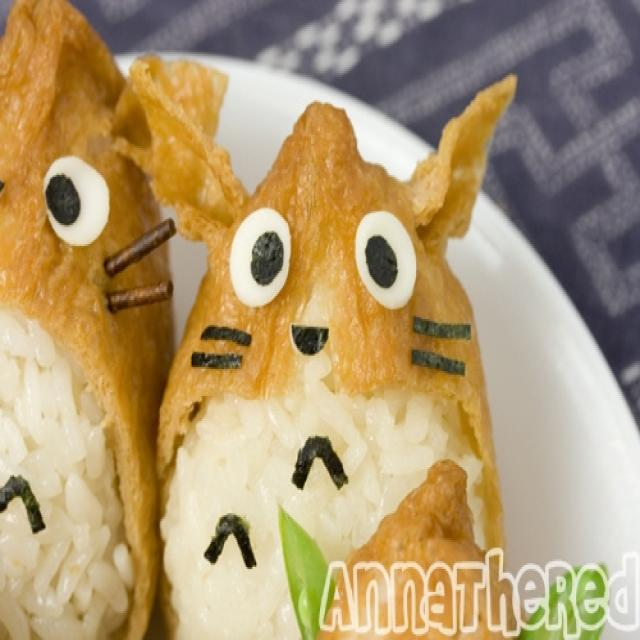寿司卷物: (4, 8, 631, 628)
